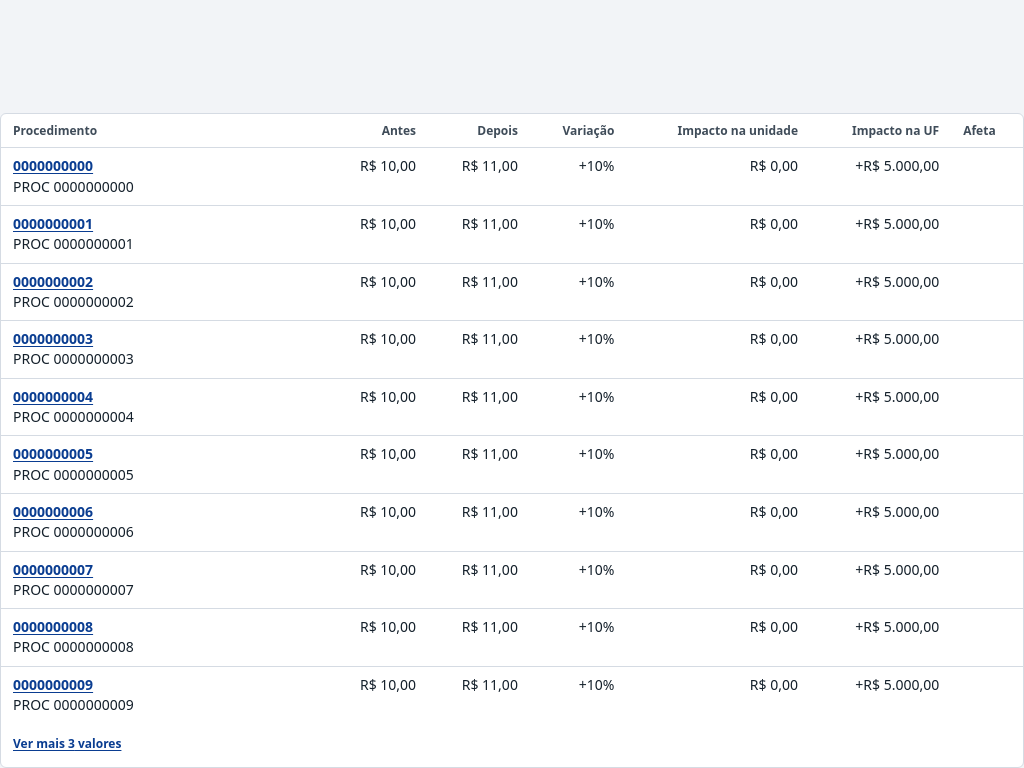
mostra dez e deixa o resto atrás de Ver mais
(page scrolled)
Step 1. Click the button "Ver mais 3 valores" → {"x": 67, "y": 743}, box [13,731,121,755]
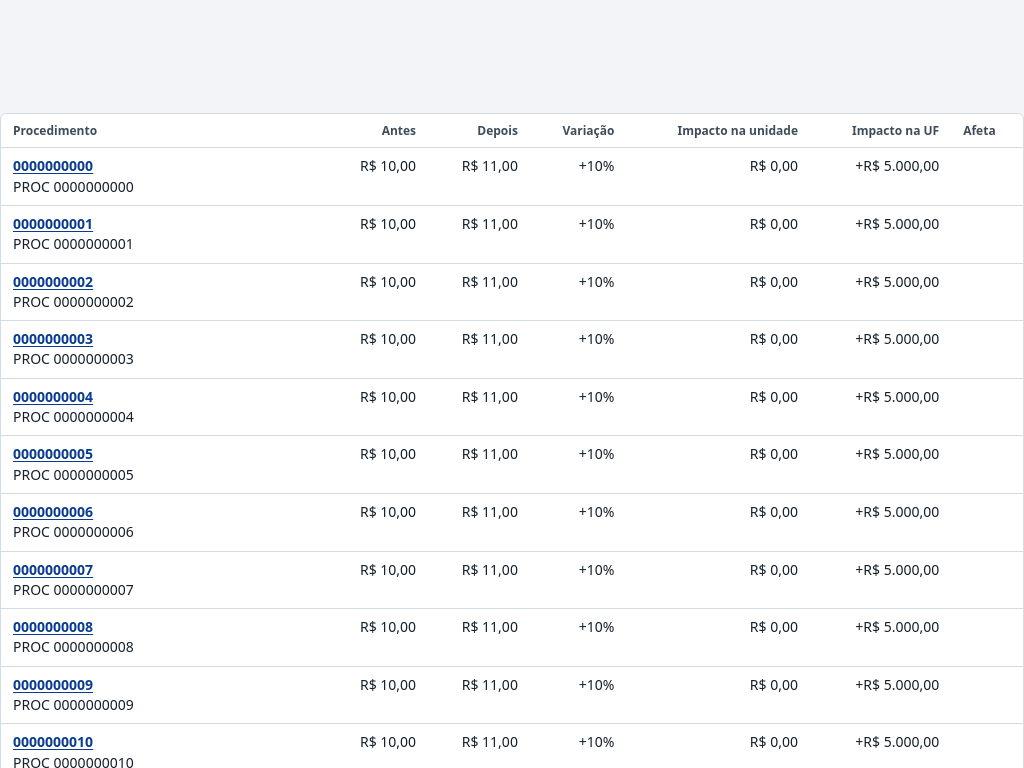
Now the button "Ver mais" is gone
